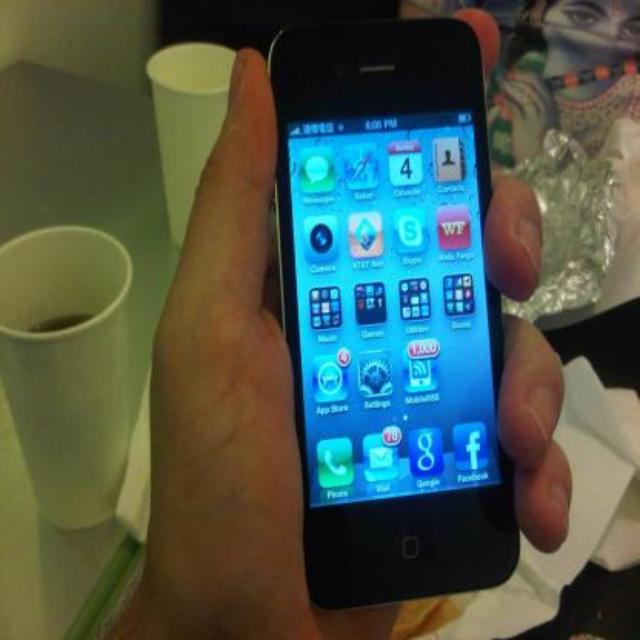Smartphone: (263, 16, 512, 596)
